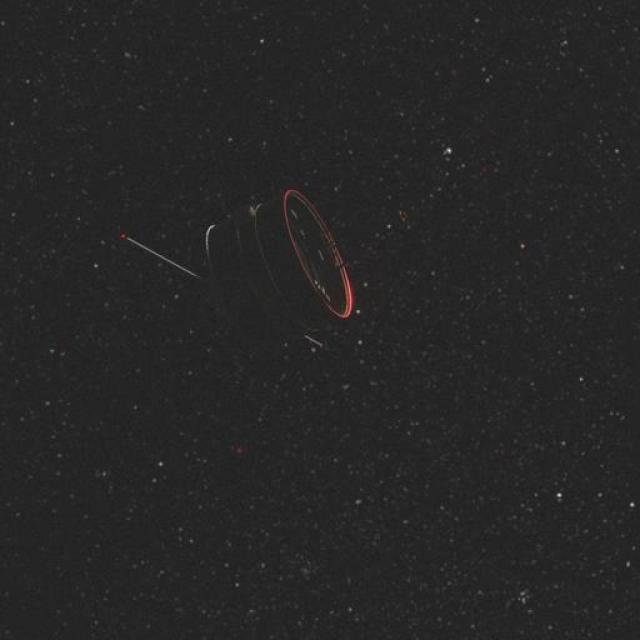double_start: (173, 172, 374, 385)
